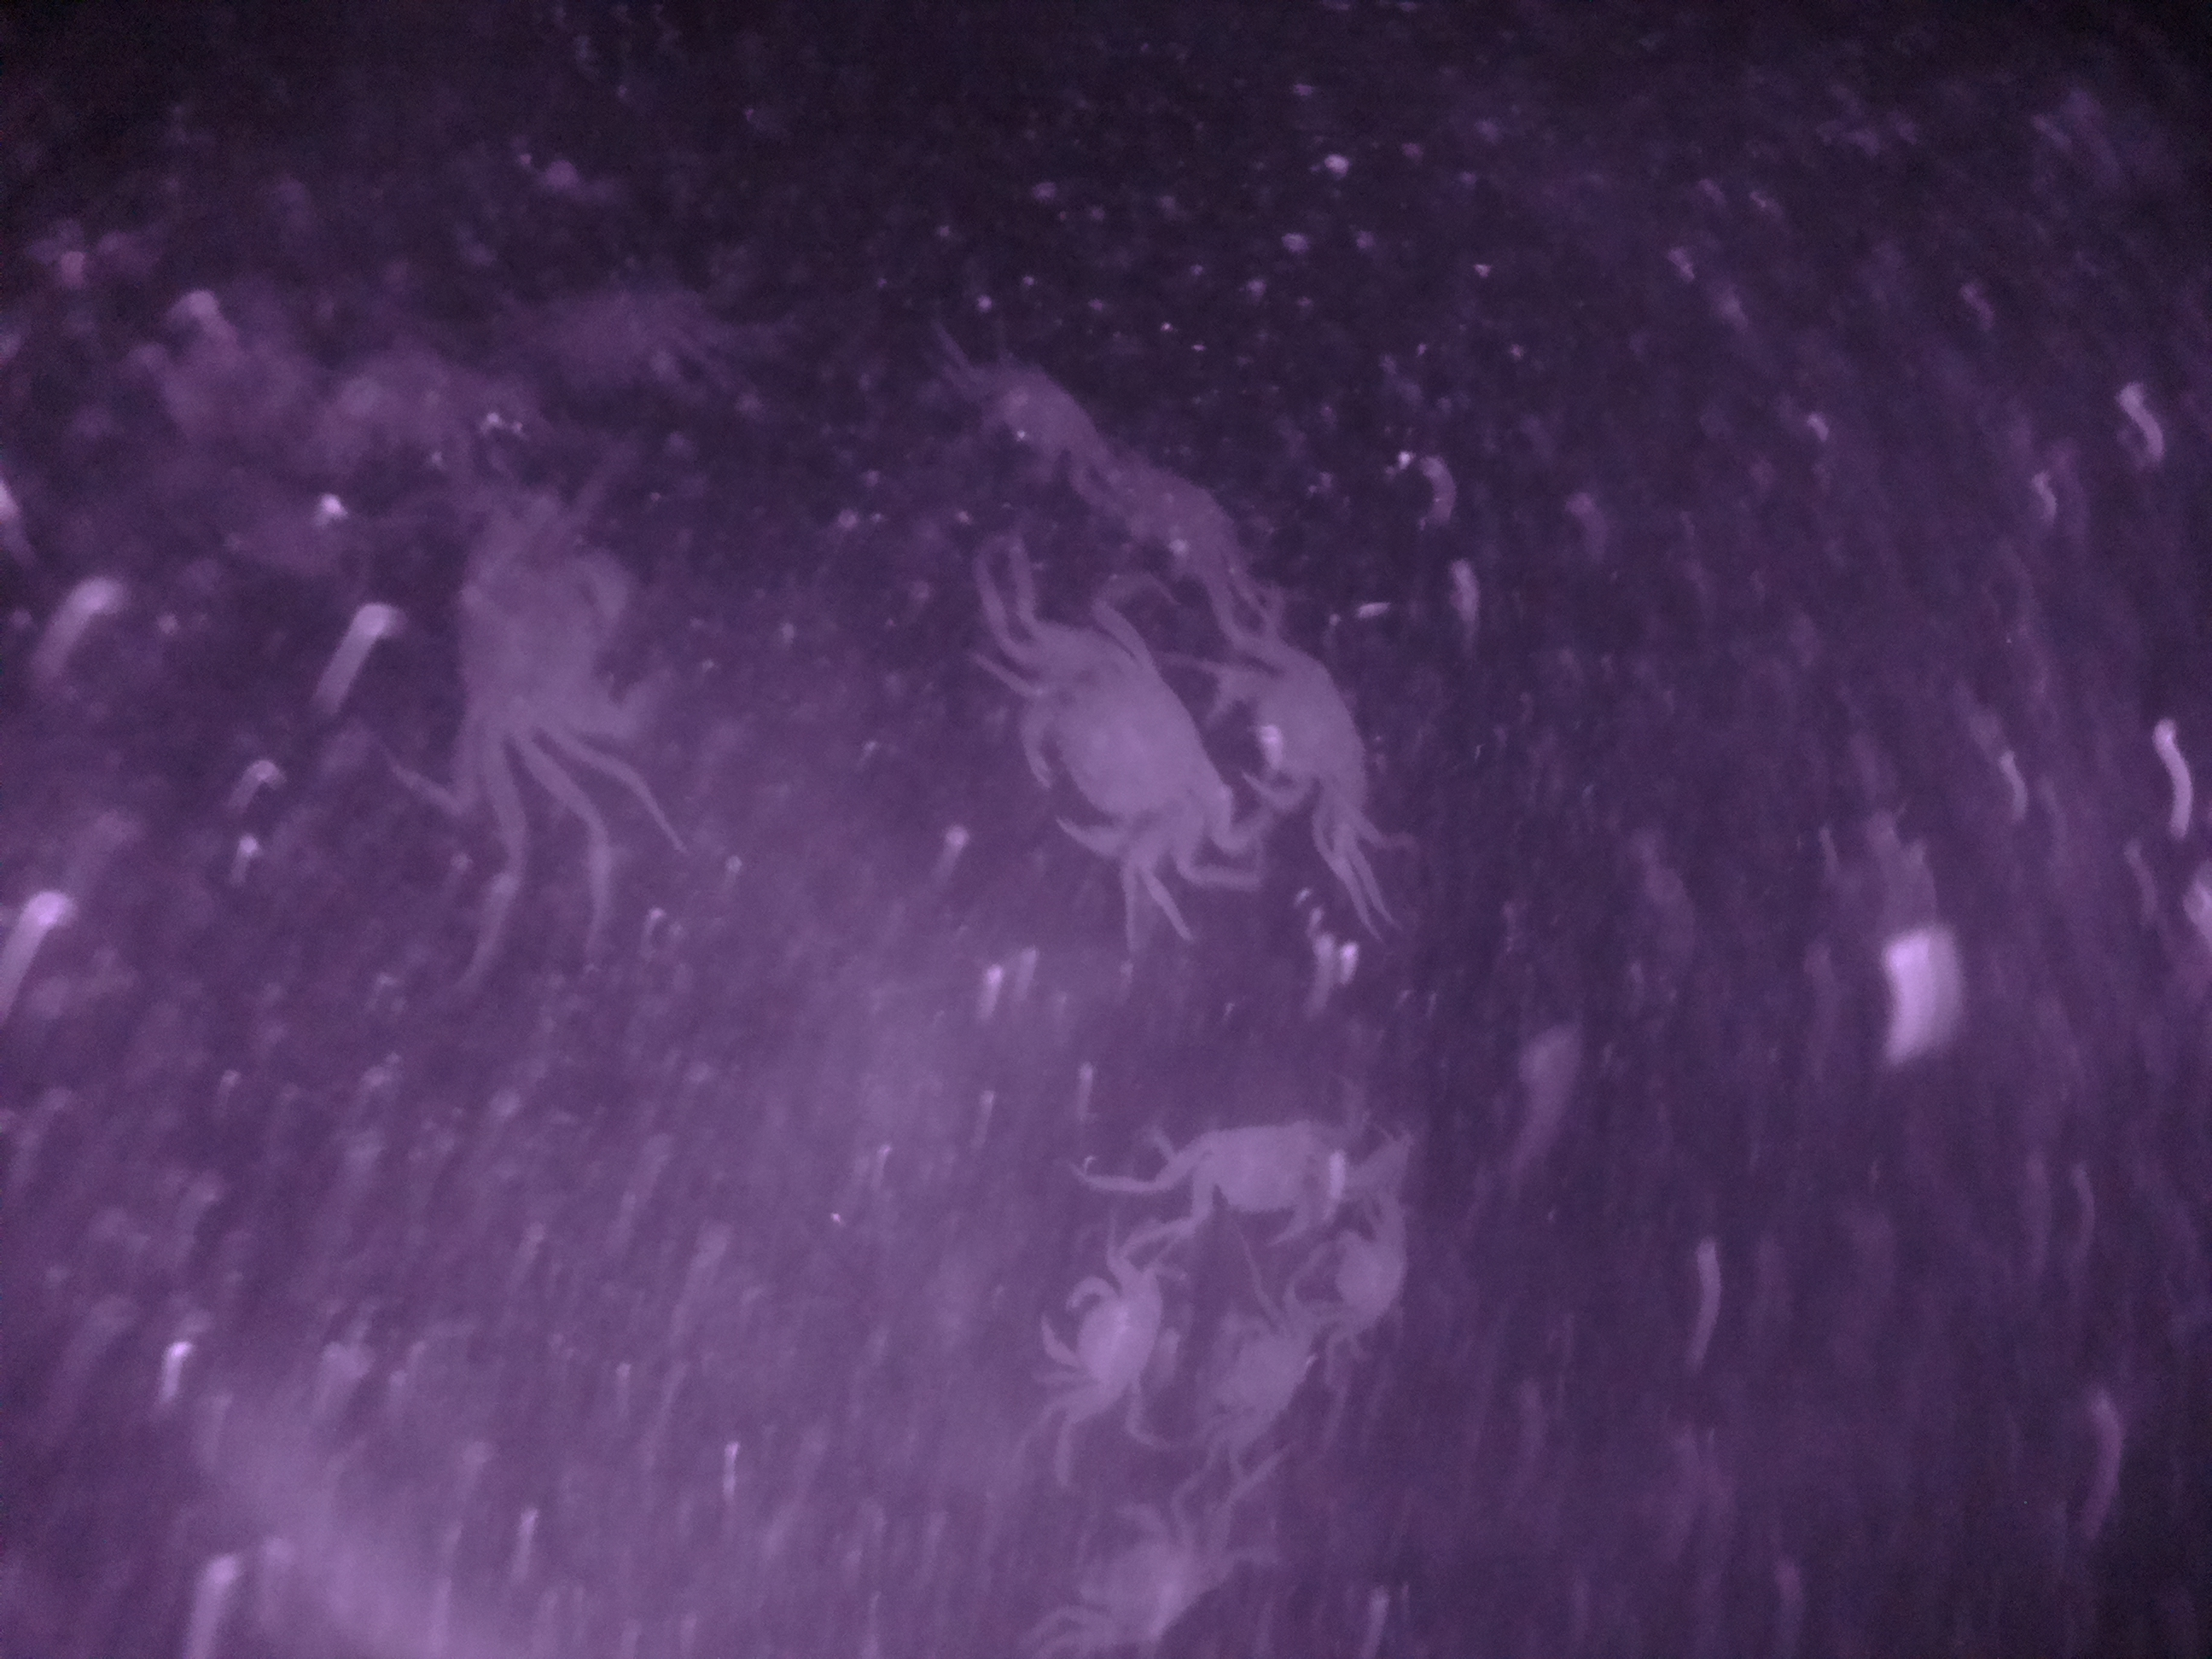Crab: (1008, 575, 1212, 896), (1193, 613, 1400, 870), (1031, 1485, 1268, 1659), (1139, 1096, 1390, 1237), (1026, 1227, 1181, 1450)
